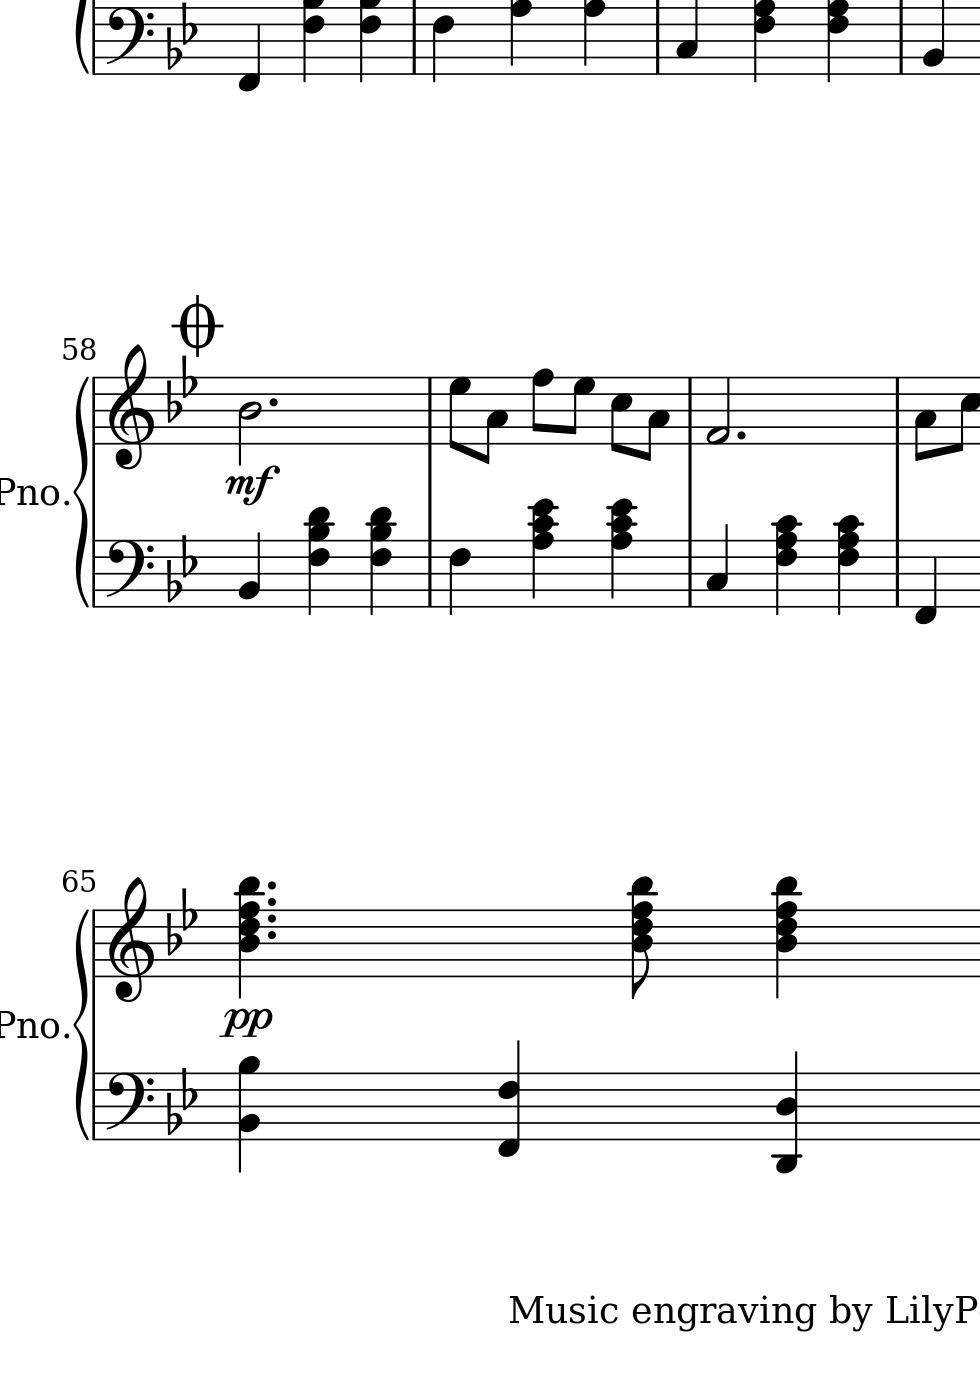2_1: (704, 374, 733, 448)
2_4: (237, 376, 263, 467)
4_-1: (912, 537, 938, 627), (237, 5, 262, 93)
4_-1_6: (498, 1040, 522, 1157)
4_-3_4: (771, 1050, 806, 1173)
4_2: (237, 529, 262, 609)
4_2_9: (237, 1056, 262, 1174)
4_3: (705, 522, 729, 608), (675, 1, 699, 76)
4_4th: (771, 871, 804, 996), (235, 876, 262, 995)
4_6: (430, 5, 455, 84), (447, 538, 471, 616)
4_th: (526, 495, 557, 611), (605, 494, 635, 609), (304, 505, 334, 618), (366, 505, 396, 616), (832, 513, 862, 617), (770, 513, 800, 616)
5: (60, 334, 78, 363), (78, 866, 97, 894)
6: (62, 867, 78, 895)
8: (78, 335, 97, 363)
8_2: (921, 1, 946, 78)
8_3: (640, 375, 670, 462), (479, 376, 508, 464), (912, 375, 937, 462)
8_4th: (627, 871, 657, 1000)
8_5: (953, 374, 979, 454), (608, 374, 632, 456)
8_7: (565, 375, 595, 445), (448, 375, 471, 455)
8_8: (529, 367, 554, 446)
B_F: (163, 352, 200, 424), (163, 533, 199, 604), (164, 885, 199, 957), (164, 1067, 198, 1136)
Brace: (72, 373, 92, 609), (73, 907, 90, 1137)
Coda: (171, 294, 223, 357)
Fclef: (102, 538, 154, 610), (102, 1071, 153, 1143), (103, 4, 153, 77)
Gclef: (107, 873, 152, 1005), (106, 343, 152, 471)
Pno: (1, 1007, 60, 1043), (1, 474, 59, 510)
Single_barline: (421, 378, 439, 445), (421, 540, 439, 607), (681, 378, 698, 444), (889, 378, 906, 444), (681, 540, 698, 607), (889, 540, 905, 607), (88, 378, 102, 444), (88, 1073, 102, 1140), (88, 909, 101, 977), (88, 541, 101, 607)
dot: (265, 394, 280, 409), (264, 893, 277, 908), (264, 879, 278, 892), (264, 929, 278, 942), (734, 428, 747, 441), (267, 910, 277, 925)
mf: (224, 463, 282, 507)
pp: (218, 1006, 272, 1040)
